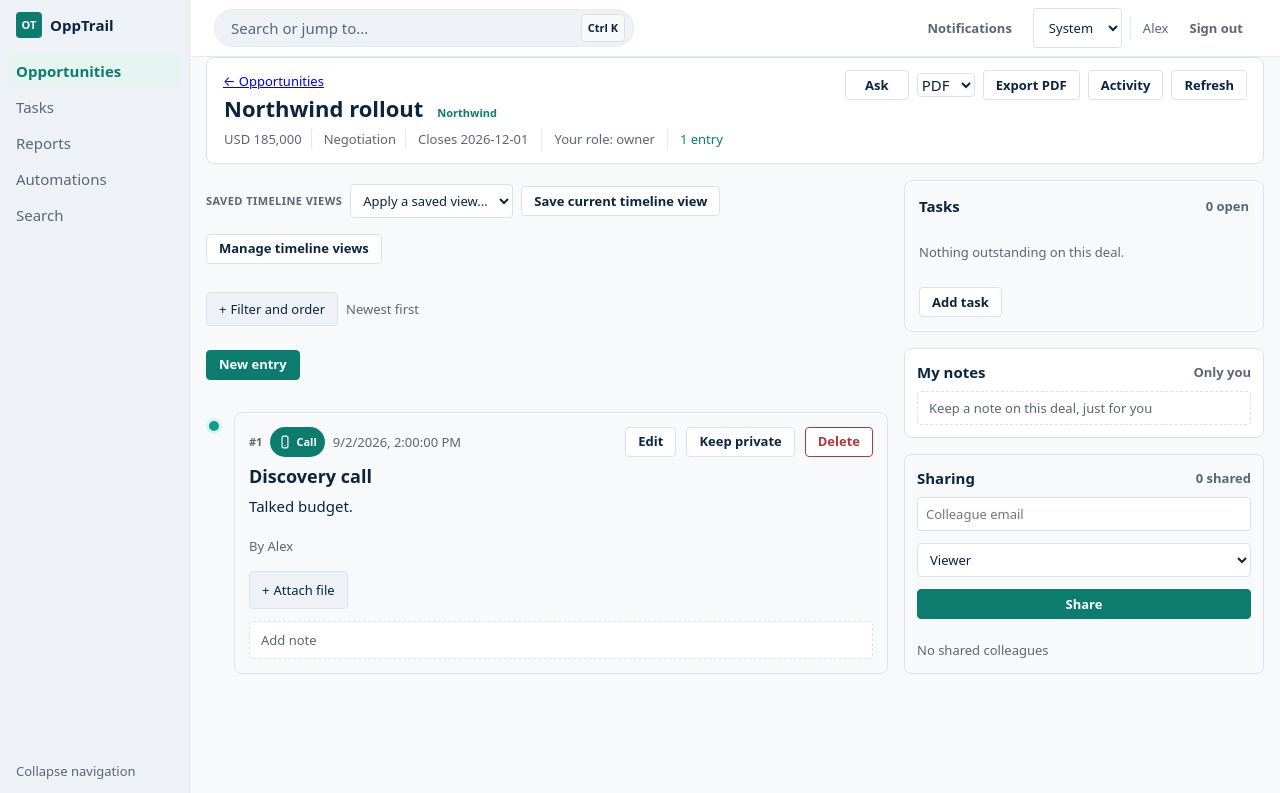
it: writing an entry decides who reads it › starts private, and says what that means
expect the heading "Northwind rollout" is shown: met, box x1=223 y1=94 x2=424 y2=122
Click the button "New entry" at [253, 365], box x1=206 y1=350 x2=300 y2=380
(page scrolled)
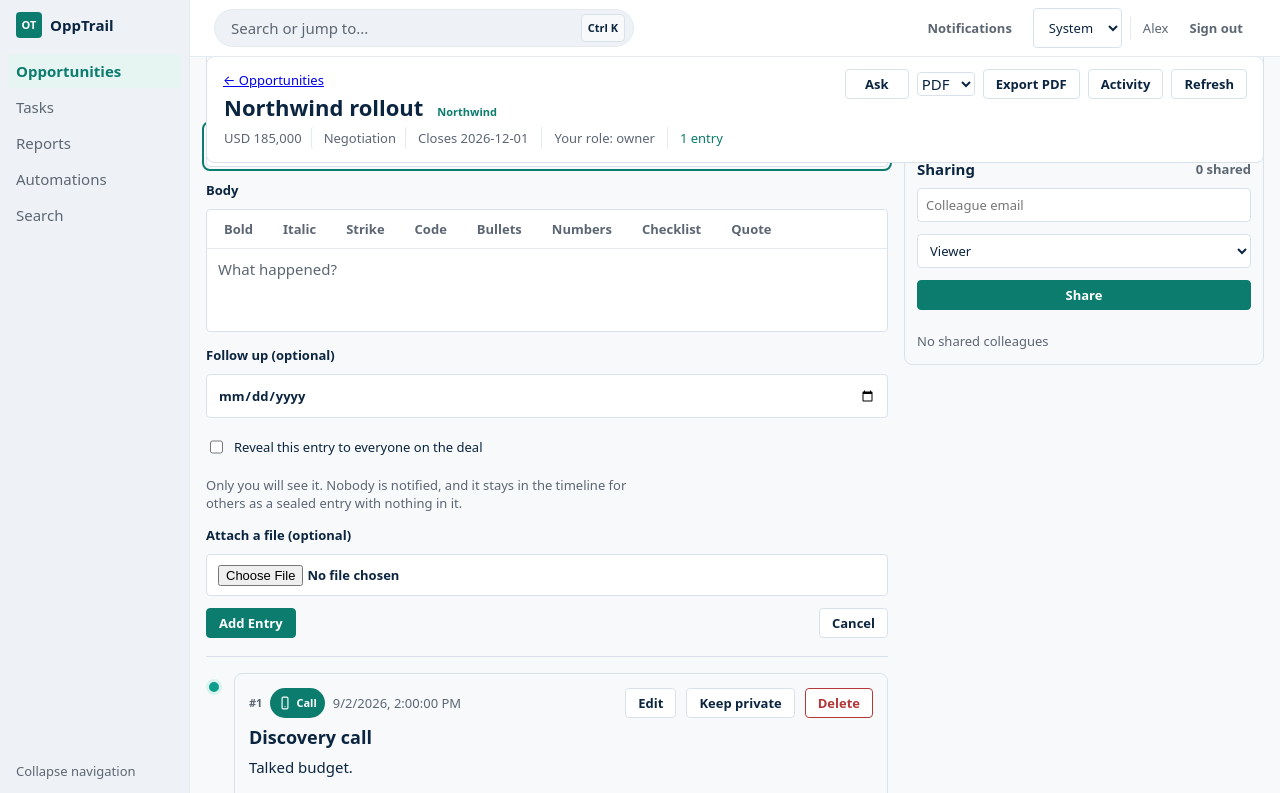
expect the checkbox labelled "Reveal this entry to everyone on the deal" is not checked: met, box x1=210 y1=439 x2=223 y2=455
expect the text "Only you will see it" is shown: met, box x1=206 y1=476 x2=626 y2=512
